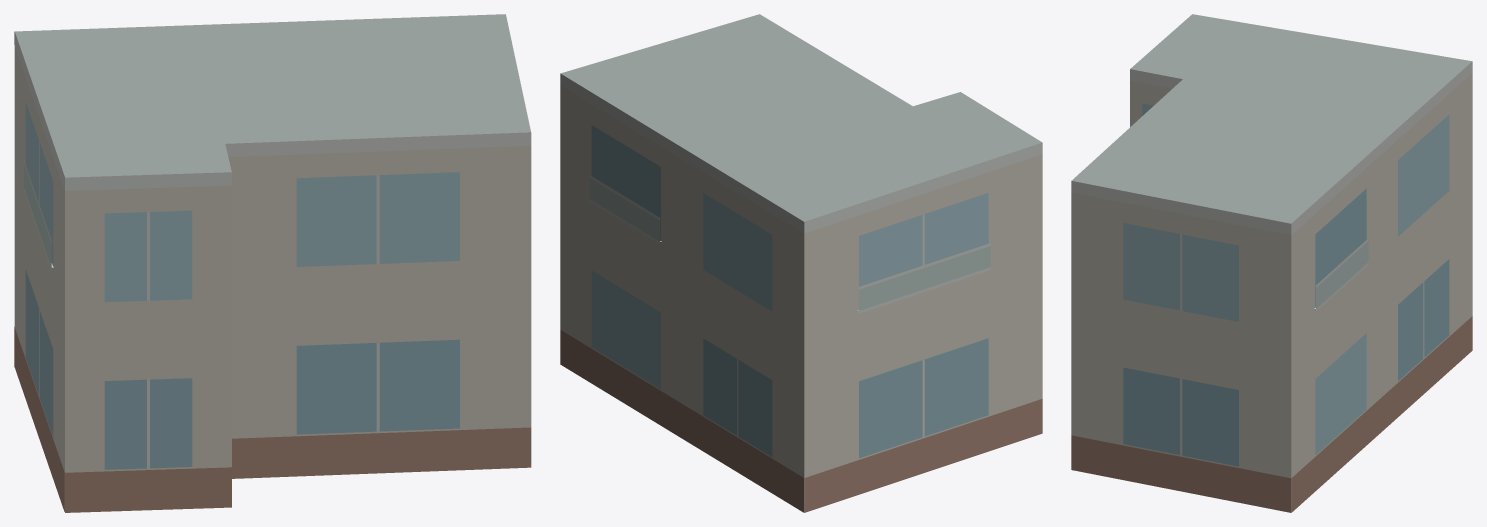
The model's file is survey-upis-32818285.glb.
3 renders of one model, left to right at view 1: azimuth 30°, elevation 25°; view 2: azimuth 150°, elevation 25°; view 3: azimuth 270°, elevation 25°, orthographic. The views are drawn at different scales.
Visible parts, largest first — view 1: survey-upis-32818285.tmp; view 2: survey-upis-32818285.tmp; view 3: survey-upis-32818285.tmp.
Boxes of the visible parts, bbox=[...] form: survey-upis-32818285.tmp: bbox=[14, 14, 531, 512]; survey-upis-32818285.tmp: bbox=[560, 14, 1042, 512]; survey-upis-32818285.tmp: bbox=[1071, 14, 1472, 512].
Bounding box in the file's own units: 9.5 × 6.1 × 7.68.
